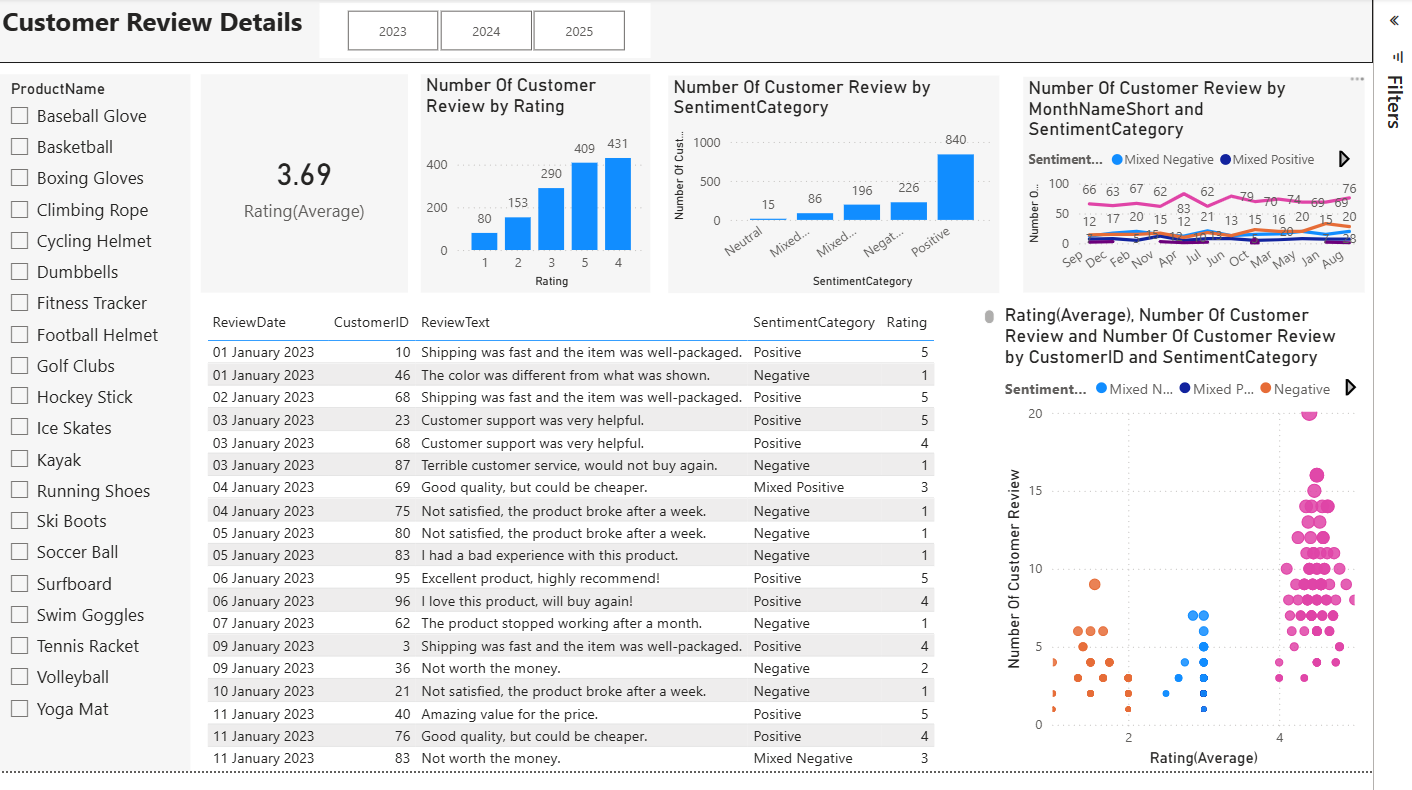

The page's visual inventory and layout, read from the dashboard file:
{"tool":"powerbi","page":{"name":"Customer Review Details","canvas":[1280,720],"ordinal":3},"visuals":[{"type":"textbox","box":[0,0,1280.2,60.5],"z":0},{"type":"slicer","fields":{"Values":["dim_products.ProductName"]},"box":[0,70.9,180.2,648.8],"z":1000},{"type":"slicer","fields":{"Values":["Calendar.Year"]},"box":[300,4.7,308.1,51.2],"z":2000},{"type":"card","fields":{"Values":["Calculator.Rating(Average)"]},"box":[189.5,70.9,193,203.5],"z":3000},{"type":"columnChart","fields":{"Y":["Calculator.Number Of Customer Review"],"Category":["fact_customer_reviews_with_sentiment.Rating"]},"box":[394.2,70.9,214,203.5],"z":4000},{"type":"columnChart","fields":{"Y":["Calculator.Number Of Customer Review"],"Category":["fact_customer_reviews_with_sentiment.SentimentCategory"]},"box":[624.4,72.1,308.1,202.3],"z":5000},{"type":"lineChart","fields":{"Category":["Calendar.MonthNameShort"],"Y":["Calculator.Number Of Customer Review"],"Series":["fact_customer_reviews_with_sentiment.SentimentCategory"]},"box":[954.7,73.3,317.4,201.2],"z":6000},{"type":"tableEx","fields":{"Values":["fact_customer_reviews_with_sentiment.ReviewDate","fact_customer_reviews_with_sentiment.CustomerID","fact_customer_reviews_with_sentiment.ReviewText","fact_customer_reviews_with_sentiment.SentimentCategory","fact_customer_reviews_with_sentiment.Rating"]},"box":[189.5,284.9,743,434.9],"z":7000},{"type":"scatterChart","fields":{"Category":["fact_customer_reviews_with_sentiment.CustomerID"],"X":["Calculator.Rating(Average)"],"Series":["fact_customer_reviews_with_sentiment.SentimentCategory"],"Size":["Calculator.Number Of Customer Review"],"Y":["Calculator.Number Of Customer Review"]},"box":[932.6,284.9,339.5,434.9],"z":8000}]}

Visuals, with their boxes on the page's 1280x720 design canvas (x1, y1, x2, y2). These are canvas units, not pixel positions in the 1412x790 screenshot, which may show the page scaled, cropped or inside an application window:
textbox: <bbox>0, 0, 1280, 60</bbox>
slicer - dim_products.ProductName: <bbox>0, 71, 180, 720</bbox>
slicer - Calendar.Year: <bbox>300, 5, 608, 56</bbox>
card - Calculator.Rating(Average): <bbox>190, 71, 382, 274</bbox>
columnChart - Calculator.Number Of Customer Review x fact_customer_reviews_with_sentiment.Rating: <bbox>394, 71, 608, 274</bbox>
columnChart - Calculator.Number Of Customer Review x fact_customer_reviews_with_sentiment.SentimentCategory: <bbox>624, 72, 932, 274</bbox>
lineChart - Calendar.MonthNameShort x Calculator.Number Of Customer Review: <bbox>955, 73, 1272, 274</bbox>
tableEx - fact_customer_reviews_with_sentiment.ReviewDate x fact_customer_reviews_with_sentiment.CustomerID: <bbox>190, 285, 932, 720</bbox>
scatterChart - fact_customer_reviews_with_sentiment.CustomerID x Calculator.Rating(Average): <bbox>933, 285, 1272, 720</bbox>
